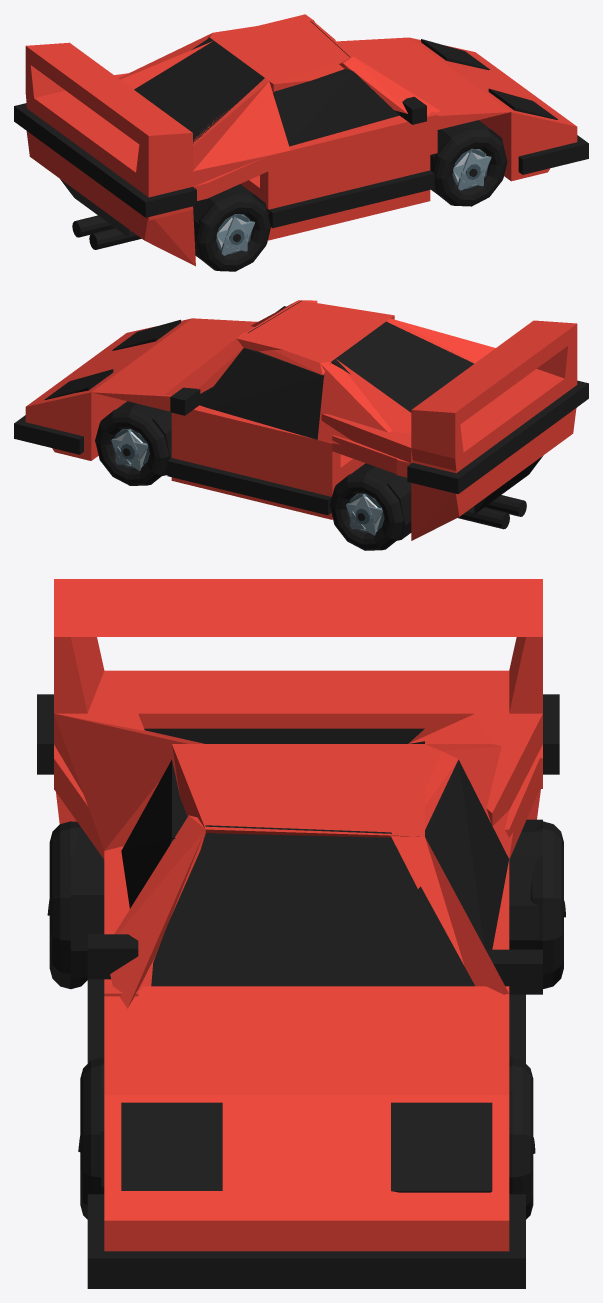
Rendered from RaceCar.fbx.
3 renders of one model, top to bottom at view 1: azimuth 30°, elevation 25°; view 2: azimuth 150°, elevation 25°; view 3: azimuth 270°, elevation 25°, orthographic. The views are drawn at different scales.
Visible parts, largest first — view 1: mesh_956056105, mesh_198852036, mesh_102746035, mesh_2031158171, mesh_275570896, mesh_2092262242, mesh_1388350157, group_1360006440, group_216690391, mesh_1923211778, mesh_243197295, mesh_99300831 (+18 smaller); view 2: mesh_1449298864, mesh_198852036, mesh_102746035, mesh_2031158171, mesh_38904309, group_351276238, mesh_275570896, mesh_1388350157, group_600872950, mesh_99300831, mesh_1650314569, mesh_1226397984 (+23 smaller); view 3: mesh_2031158171, mesh_109924994, mesh_1388350157, mesh_198852036, mesh_275570896, mesh_1650314569, mesh_875376599, mesh_344841023, mesh_1923211778, mesh_398477270, mesh_1825421313, mesh_1449298864 (+24 smaller).
Part boxes in pixels (x1,y1,x2,y2): mesh_956056105: (260, 111, 437, 194); mesh_198852036: (25, 42, 192, 150); mesh_102746035: (134, 37, 264, 143); mesh_2031158171: (336, 37, 510, 131); mesh_275570896: (210, 14, 352, 94); mesh_2092262242: (273, 69, 399, 146); mesh_1388350157: (410, 37, 576, 181); group_1360006440: (193, 184, 270, 271); group_216690391: (430, 120, 507, 206); mesh_1923211778: (193, 78, 290, 171); mesh_243197295: (240, 155, 430, 240); mesh_99300831: (26, 131, 195, 266); mesh_1449298864: (199, 348, 324, 439); mesh_198852036: (412, 320, 577, 427); mesh_102746035: (331, 321, 473, 412); mesh_2031158171: (91, 318, 257, 411); mesh_38904309: (171, 405, 324, 479); group_351276238: (329, 463, 411, 550); mesh_275570896: (236, 300, 394, 362); mesh_1388350157: (26, 318, 191, 460); group_600872950: (95, 401, 171, 485); mesh_99300831: (411, 408, 576, 540); mesh_1650314569: (411, 376, 558, 500); mesh_1226397984: (317, 359, 411, 444); mesh_2031158171: (104, 986, 509, 1095); mesh_109924994: (151, 825, 474, 986); mesh_1388350157: (104, 1095, 509, 1220); mesh_198852036: (54, 579, 542, 636); mesh_275570896: (172, 744, 424, 837); mesh_1650314569: (121, 670, 509, 728); mesh_875376599: (87, 1230, 525, 1288); mesh_344841023: (104, 1220, 509, 1251); mesh_1923211778: (54, 713, 204, 850); mesh_398477270: (391, 1102, 492, 1192); mesh_1825421313: (121, 1102, 222, 1190); mesh_1449298864: (425, 759, 508, 949).
Size of the model in its own units: 62 by 20.75 by 31.37.
